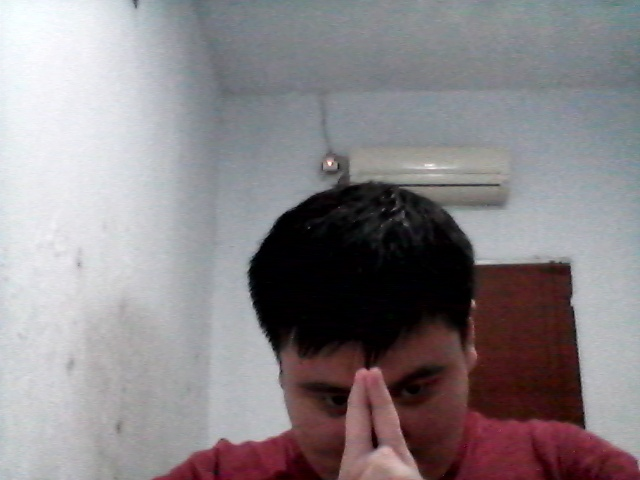jutsu: (347, 371, 414, 480)
